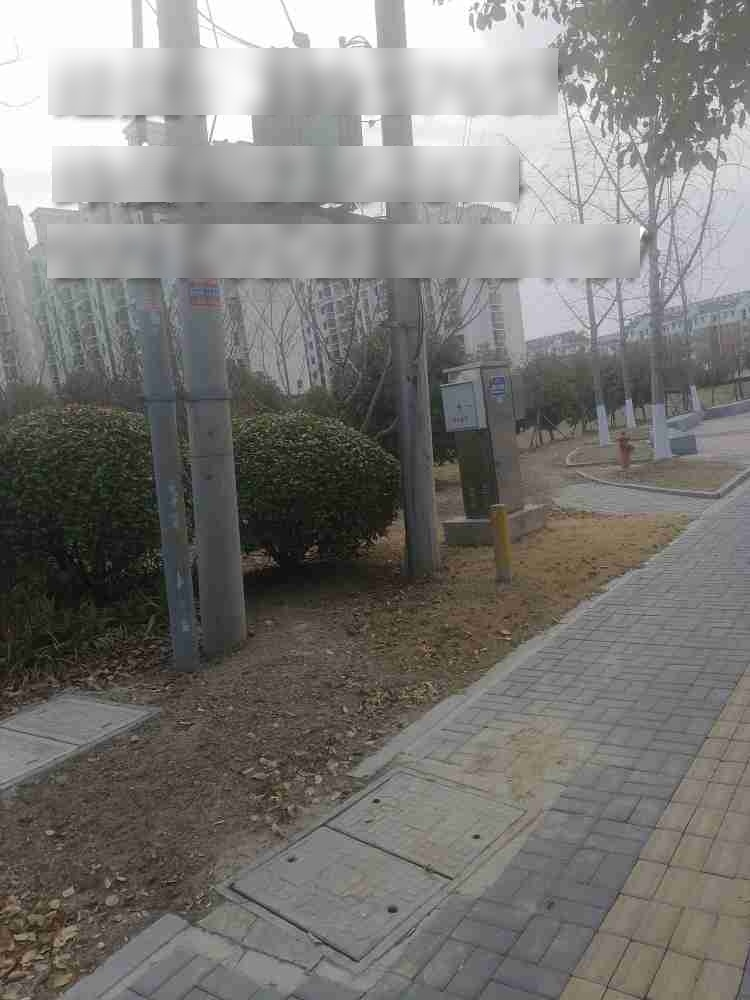good: (215, 761, 541, 975), (1, 692, 157, 796)
